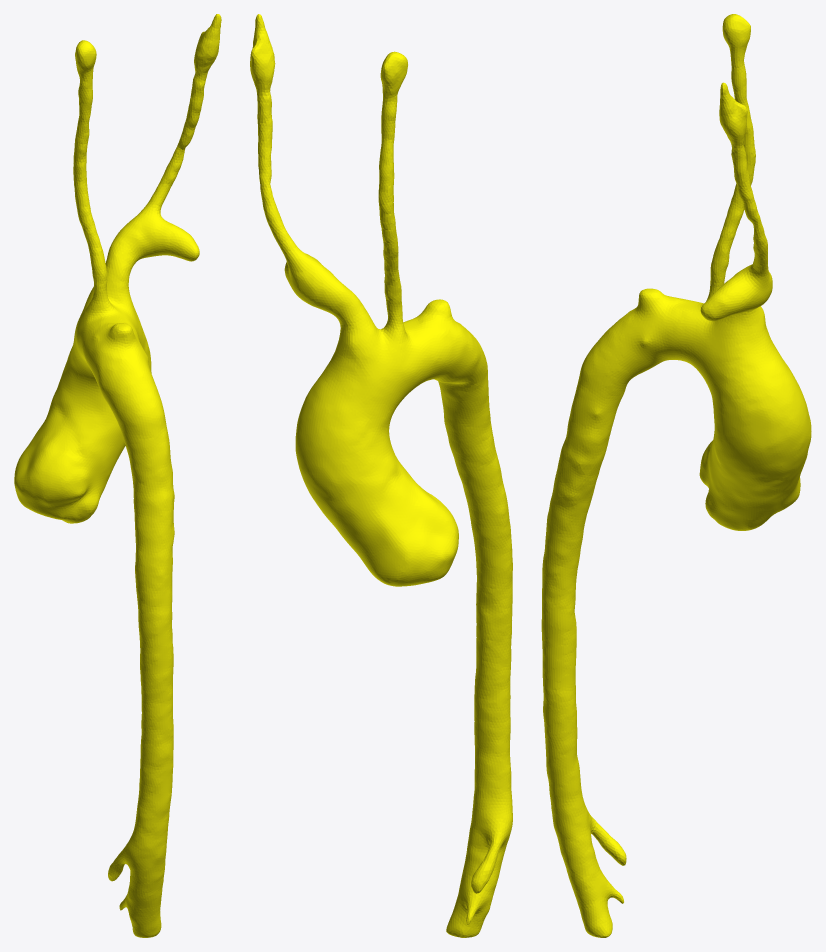
The model's file is aortaTEST.glb.
3 renders of one model, left to right at view 1: azimuth 30°, elevation 25°; view 2: azimuth 150°, elevation 25°; view 3: azimuth 270°, elevation 25°, orthographic. The views are drawn at different scales.
Visible parts, largest first — view 1: 2018001 Aorta; view 2: 2018001 Aorta; view 3: 2018001 Aorta.
Part boxes in pixels (x1,y1,x2,y2): 2018001 Aorta: [14, 14, 221, 937]; 2018001 Aorta: [250, 14, 512, 937]; 2018001 Aorta: [541, 14, 811, 937].
Size of the model in its own units: 87.51 by 372 by 98.99.
